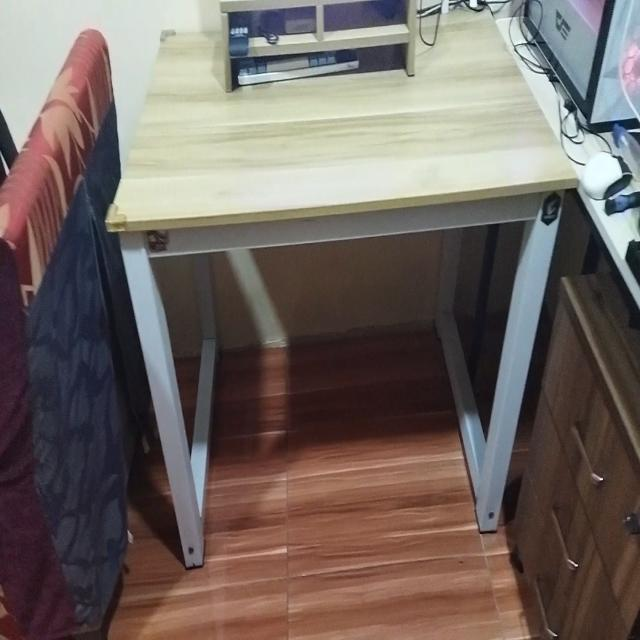table: (112, 3, 573, 550)
